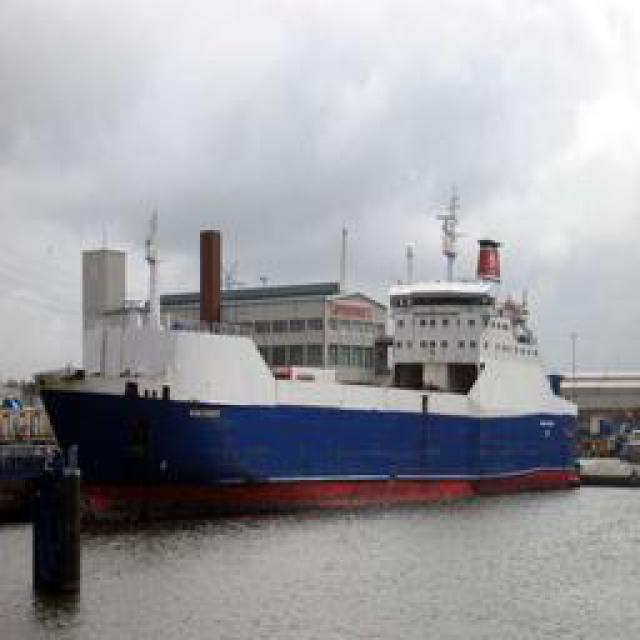Ship: (36, 251, 584, 509)
